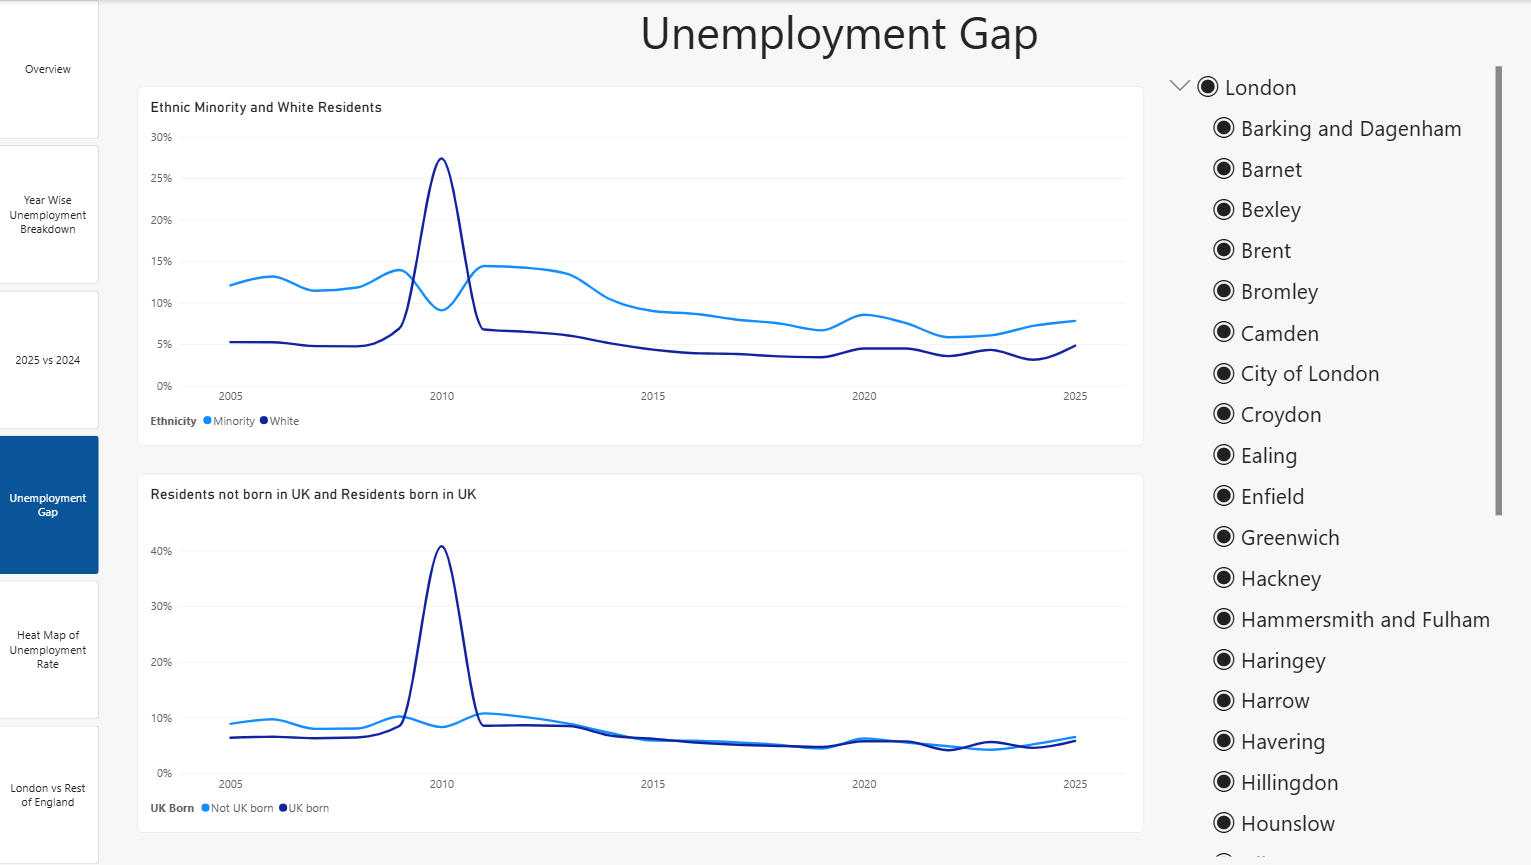

The dashboard page shown, as its layout file describes it:
{"tool":"powerbi","page":{"name":"Unemployment Gap","canvas":[1920,1080],"ordinal":3},"visuals":[{"type":"lineChart","title":"Ethnic Minority and White Residents","fields":{"Category":["Date Table.Year"],"Series":["All_data.Ethnicity"],"Y":["All_data.Unemployment Rate London"]},"box":[174.4,108.1,1255.8,448.3],"z":0},{"type":"slicer","fields":{"Values":["All_data.Geography","All_data.Area"]},"box":[1454.7,82,422.1,985.5],"z":1000},{"type":"textbox","box":[493.6,0,1112.8,92.4],"z":2000},{"type":"pageNavigator","box":[0,0,127.6,1080.6],"z":3000},{"type":"lineChart","title":"Residents not born in UK and Residents born in UK","fields":{"Category":["Date Table.Year"],"Series":["All_data.UK Born"],"Y":["All_data.Unemployment Rate London"]},"box":[174.4,591.3,1255.8,448.3],"z":4000}]}

Visuals, with their boxes on the page's 1920x1080 design canvas (x1, y1, x2, y2). These are canvas units, not pixel positions in the 1531x865 screenshot, which may show the page scaled, cropped or inside an application window:
"Ethnic Minority and White Residents" lineChart: x1=174 y1=108 x2=1430 y2=556
slicer - All_data.Geography x All_data.Area: x1=1455 y1=82 x2=1877 y2=1068
textbox: x1=494 y1=0 x2=1606 y2=92
pageNavigator: x1=0 y1=0 x2=128 y2=1081
"Residents not born in UK and Residents born in UK" lineChart: x1=174 y1=591 x2=1430 y2=1040
